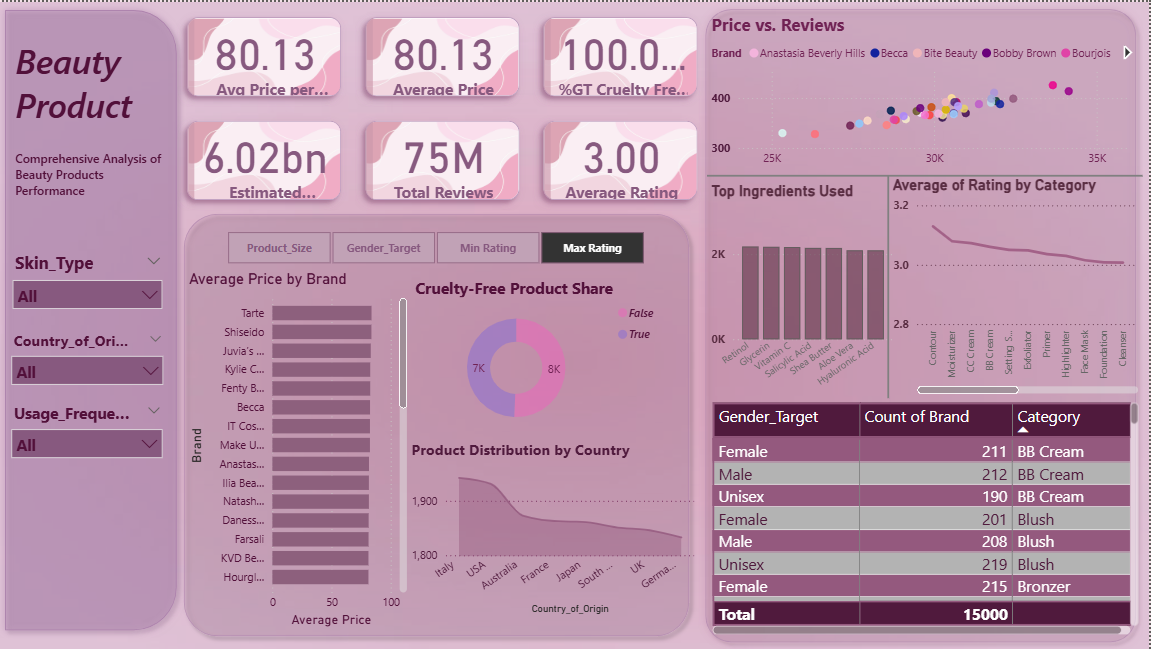

Layout of this report page (visuals, bound fields, positions):
{"tool":"powerbi","page":{"name":"Page 1","canvas":[1280,720],"ordinal":0},"visuals":[{"type":"shape","box":[0,0,208.6,707.1],"z":0},{"type":"textbox","box":[14.7,34.2,173.6,119.8],"z":1000},{"type":"slicer","fields":{"Values":["most_used_beauty_cosmetics_products_extended.Skin_Type"]},"box":[7.3,272.7,187.1,99],"z":2000},{"type":"slicer","fields":{"Values":["most_used_beauty_cosmetics_products_extended.Country_of_Origin"]},"box":[4.9,359.5,189.5,100.3],"z":3000},{"type":"slicer","fields":{"Values":["most_used_beauty_cosmetics_products_extended.Usage_Frequency"]},"box":[5.5,440.1,188.2,106.6],"z":4000},{"type":"cardVisual","fields":{"Data":["most_used_beauty_cosmetics_products_extended.Avg Price per Brand","most_used_beauty_cosmetics_products_extended.Average Price","most_used_beauty_cosmetics_products_extended.Cruelty Free %","most_used_beauty_cosmetics_products_extended.Estimated Revenue","most_used_beauty_cosmetics_products_extended.Total Reviews","most_used_beauty_cosmetics_products_extended.Average Rating"]},"box":[194.9,0,602.1,239],"z":5000},{"type":"textbox","box":[15.2,159.2,182.7,80.3],"z":6000},{"type":"shape","box":[198.9,227,579.4,487.3],"z":7000},{"type":"slicer","fields":{"Values":["Parameter.Parameter"]},"box":[231.1,249.1,512.1,48.4],"z":8000},{"type":"donutChart","title":"Cruelty-Free Product Share","fields":{"Y":["most_used_beauty_cosmetics_products_extended.Product Count"],"Category":["most_used_beauty_cosmetics_products_extended.Cruelty_Free"]},"box":[459.8,305.7,283.7,179.8],"z":9000},{"type":"barChart","fields":{"Category":["most_used_beauty_cosmetics_products_extended.Brand"],"Y":["most_used_beauty_cosmetics_products_extended.Average Price"]},"box":[208.3,297.7,252.3,401.8],"z":10000},{"type":"tableEx","fields":{"Values":["most_used_beauty_cosmetics_products_extended.Gender_Target","CountNonNull(most_used_beauty_cosmetics_products_extended.Category)","most_used_beauty_cosmetics_products_extended.Brand"]},"box":[778.9,699.5,501.4,7.3],"z":11000},{"type":"areaChart","title":"Product Distribution by Country","fields":{"Category":["most_used_beauty_cosmetics_products_extended.Country_of_Origin"],"Y":["CountNonNull(most_used_beauty_cosmetics_products_extended.Product_Name)"]},"box":[454.9,485.5,324.1,199.3],"z":12000},{"type":"shape","box":[779.2,0,494.4,719.4],"z":13000},{"type":"tableEx","fields":{"Values":["most_used_beauty_cosmetics_products_extended.Gender_Target","most_used_beauty_cosmetics_products_extended.Brand","most_used_beauty_cosmetics_products_extended.Category"]},"box":[788.6,440,484.3,267.1],"z":14000},{"type":"scatterChart","title":"Price vs. Reviews","fields":{"Size":["Count(most_used_beauty_cosmetics_products_extended.Rating)"],"Series":["most_used_beauty_cosmetics_products_extended.Brand"],"Y":["CountNonNull(most_used_beauty_cosmetics_products_extended.Number_of_Reviews)"],"X":["Sum(most_used_beauty_cosmetics_products_extended.Price_USD)"]},"box":[788.6,12.9,484.3,180],"z":15000},{"type":"clusteredColumnChart","title":"Top Ingredients Used","fields":{"Category":["most_used_beauty_cosmetics_products_extended.Main_Ingredient"],"Y":["CountNonNull(most_used_beauty_cosmetics_products_extended.Product_Name)"]},"box":[788.6,200,211.4,240],"z":16000},{"type":"lineChart","fields":{"Category":["most_used_beauty_cosmetics_products_extended.Category"],"Y":["Avg(most_used_beauty_cosmetics_products_extended.Rating)"]},"box":[990,192.9,282.9,247.1],"z":17000},{"type":"shape","box":[840,192.9,300,247.1],"z":18000},{"type":"shape","box":[788.6,42.9,484.3,300],"z":19000}]}

Visuals, with their boxes in screenshot pixels (x1, y1, x2, y2), scaled from the page's 1280x720 canvas onto the 1151x649 screenshot:
shape: 0 0 188 637
textbox: 13 31 169 139
slicer - most_used_beauty_cosmetics_products_extended.Skin_Type: 7 246 175 335
slicer - most_used_beauty_cosmetics_products_extended.Country_of_Origin: 4 324 175 414
slicer - most_used_beauty_cosmetics_products_extended.Usage_Frequency: 5 397 174 493
cardVisual - most_used_beauty_cosmetics_products_extended.Avg Price per Brand x most_used_beauty_cosmetics_products_extended.Average Price: 175 0 717 215
textbox: 14 144 178 216
shape: 179 205 700 644
slicer - Parameter.Parameter: 208 225 668 268
"Cruelty-Free Product Share" donutChart: 413 276 669 438
barChart - most_used_beauty_cosmetics_products_extended.Brand x most_used_beauty_cosmetics_products_extended.Average Price: 187 268 414 631
tableEx - most_used_beauty_cosmetics_products_extended.Gender_Target x CountNonNull(most_used_beauty_cosmetics_products_extended.Category): 700 631 1150 637
"Product Distribution by Country" areaChart: 409 438 700 617
shape: 701 0 1145 648
tableEx - most_used_beauty_cosmetics_products_extended.Gender_Target x most_used_beauty_cosmetics_products_extended.Brand: 709 397 1145 637
"Price vs. Reviews" scatterChart: 709 12 1145 174
"Top Ingredients Used" clusteredColumnChart: 709 180 899 397
lineChart - most_used_beauty_cosmetics_products_extended.Category x Avg(most_used_beauty_cosmetics_products_extended.Rating): 890 174 1145 397
shape: 755 174 1025 397
shape: 709 39 1145 309
